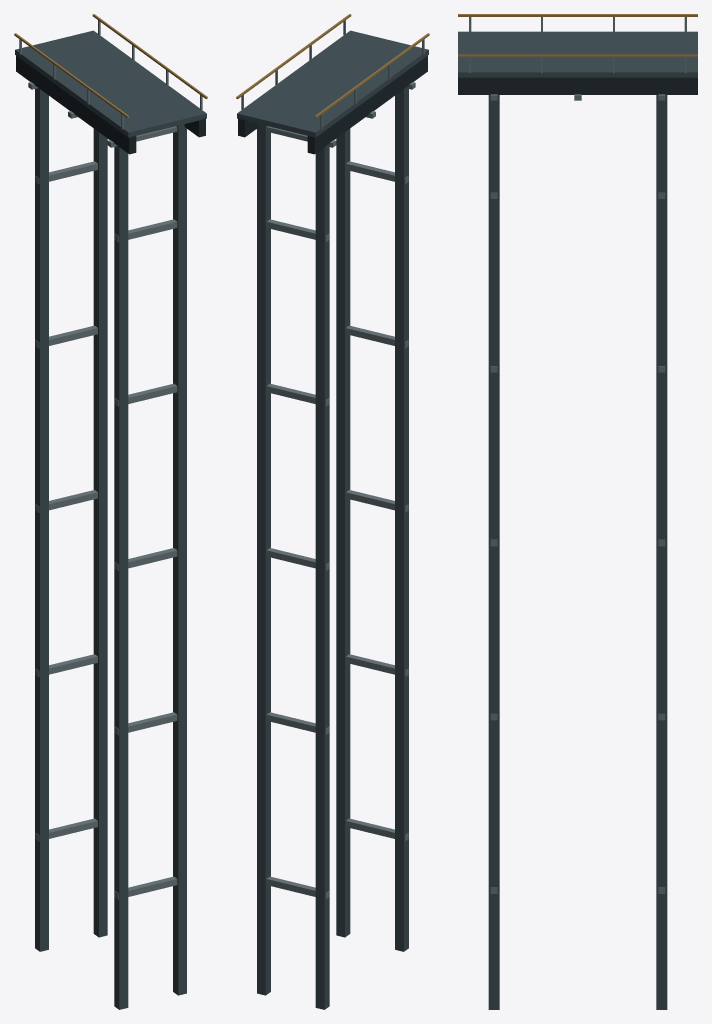
Rendered from CourseBlockoutBridge.obj.
3 views of the same model, side by side, from view 1: azimuth 30°, elevation 25°; view 2: azimuth 150°, elevation 25°; view 3: azimuth 270°, elevation 25° (orthographic). The views are drawn at different scales.
Visible parts, largest first — view 1: CourseBlockoutBridge; view 2: CourseBlockoutBridge; view 3: CourseBlockoutBridge.
Boxes of the visible parts, x1,y1,x2,y2 form: CourseBlockoutBridge: (14,14,207,1009); CourseBlockoutBridge: (236,14,429,1009); CourseBlockoutBridge: (458,14,697,1009).
Bounding box in the file's own units: 8.4 × 88.19 × 20.
1 material, 1 textured.
